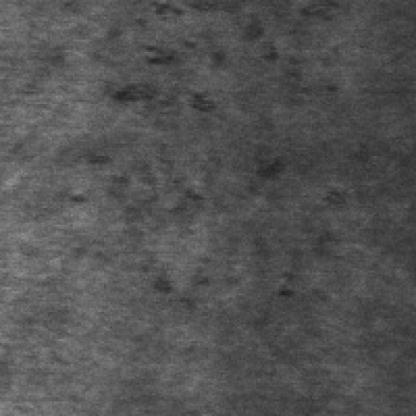rolled-in_scale: (90, 146, 244, 314), (106, 0, 271, 112)
